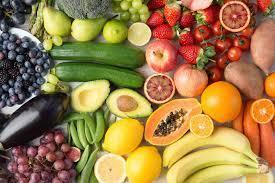lemon: (102, 118, 144, 154), (127, 146, 162, 183), (94, 153, 127, 183)
